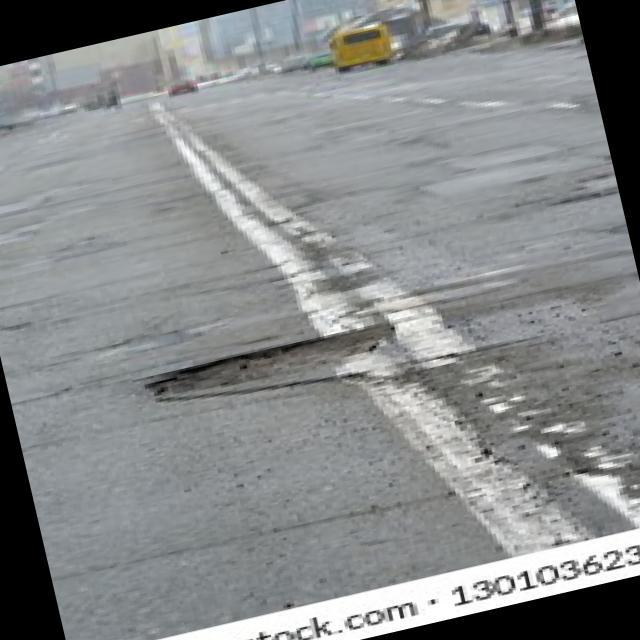Pothole: (139, 319, 405, 416)
